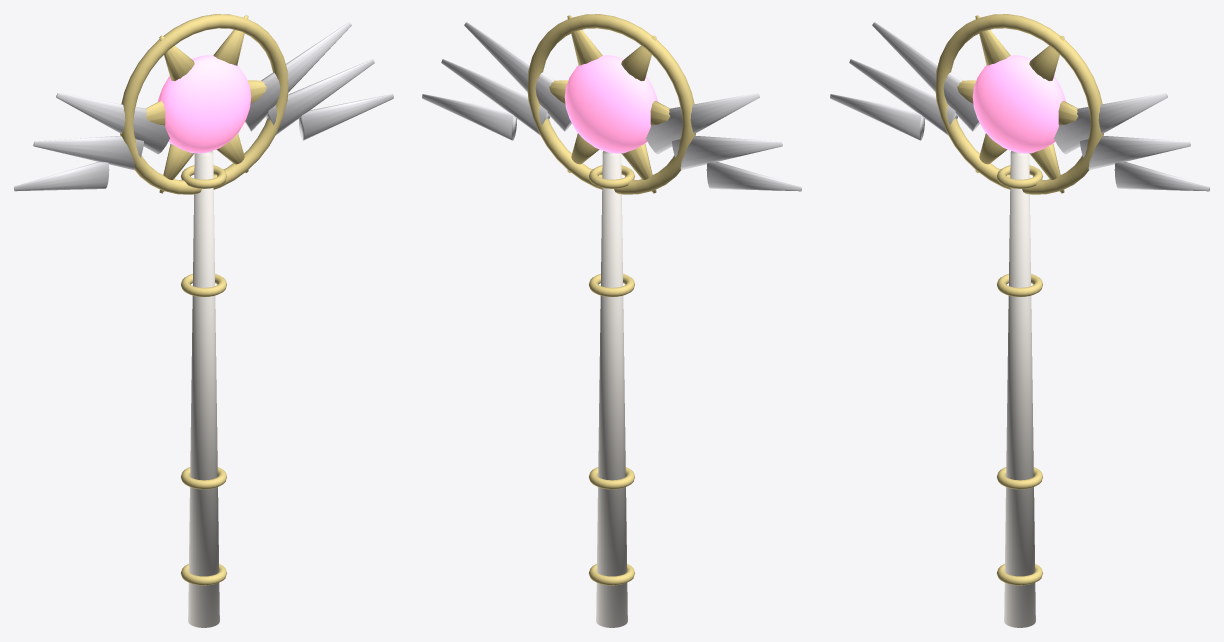
File: shaper_star_wing_wand.glb
3 renders of one model, left to right at view 1: azimuth 30°, elevation 25°; view 2: azimuth 150°, elevation 25°; view 3: azimuth 330°, elevation 25°, orthographic.
Parts seen in each view (by area): view 1: ShaperWandShaft, ShaperStarCoreGem, ShaperCelestialHalo, ShaperWingFeather_-1_0, ShaperWingFeather_1_0, ShaperWingFeather_-1_1, ShaperWingFeather_1_1, ShaperWingFeather_-1_2, ShaperWingFeather_1_2, ShaperStarRay_2, ShaperStarRay_1, ShaperWandRing_3 (+4 smaller); view 2: ShaperWandShaft, ShaperStarCoreGem, ShaperCelestialHalo, ShaperWingFeather_-1_0, ShaperWingFeather_1_0, ShaperWingFeather_-1_1, ShaperWingFeather_1_1, ShaperWingFeather_-1_2, ShaperWingFeather_1_2, ShaperStarRay_2, ShaperStarRay_1, ShaperWandRing_3 (+4 smaller); view 3: ShaperWandShaft, ShaperStarCoreGem, ShaperCelestialHalo, ShaperWingFeather_1_0, ShaperWingFeather_-1_0, ShaperWingFeather_1_1, ShaperWingFeather_-1_1, ShaperWingFeather_1_2, ShaperWingFeather_-1_2, ShaperStarRay_1, ShaperStarRay_2, ShaperWandRing_3 (+4 smaller).
Boxes of the visible parts, <box> form: ShaperWandShaft: <box>188,151,219,627</box>; ShaperStarCoreGem: <box>158,55,251,153</box>; ShaperCelestialHalo: <box>120,14,288,194</box>; ShaperWingFeather_-1_0: <box>56,93,169,154</box>; ShaperWingFeather_1_0: <box>244,22,351,131</box>; ShaperWingFeather_-1_1: <box>33,136,143,169</box>; ShaperWingFeather_1_1: <box>266,59,374,135</box>; ShaperWingFeather_-1_2: <box>14,162,109,191</box>; ShaperWingFeather_1_2: <box>298,94,393,140</box>; ShaperStarRay_2: <box>159,35,194,81</box>; ShaperStarRay_1: <box>213,15,248,65</box>; ShaperWandRing_3: <box>181,165,226,188</box>; ShaperWandShaft: <box>596,151,627,627</box>; ShaperStarCoreGem: <box>564,55,657,153</box>; ShaperCelestialHalo: <box>527,14,695,194</box>; ShaperWingFeather_-1_0: <box>646,93,759,154</box>; ShaperWingFeather_1_0: <box>464,22,571,131</box>; ShaperWingFeather_-1_1: <box>672,136,782,169</box>; ShaperWingFeather_1_1: <box>441,59,549,135</box>; ShaperWingFeather_-1_2: <box>706,162,801,191</box>; ShaperWingFeather_1_2: <box>422,94,517,140</box>; ShaperStarRay_2: <box>621,35,656,81</box>; ShaperStarRay_1: <box>567,15,602,65</box>; ShaperWandRing_3: <box>589,165,634,188</box>; ShaperWandShaft: <box>1004,151,1035,627</box>; ShaperStarCoreGem: <box>972,55,1065,153</box>; ShaperCelestialHalo: <box>935,14,1103,194</box>; ShaperWingFeather_1_0: <box>1054,93,1167,154</box>; ShaperWingFeather_-1_0: <box>872,22,979,131</box>; ShaperWingFeather_1_1: <box>1080,136,1190,169</box>; ShaperWingFeather_-1_1: <box>849,59,957,135</box>; ShaperWingFeather_1_2: <box>1114,162,1209,191</box>; ShaperWingFeather_-1_2: <box>830,94,925,140</box>; ShaperStarRay_1: <box>1029,35,1064,81</box>; ShaperStarRay_2: <box>975,15,1010,65</box>; ShaperWandRing_3: <box>997,165,1042,188</box>.
Bounding box in the file's own units: 0.6601 × 1.01 × 0.0905.
